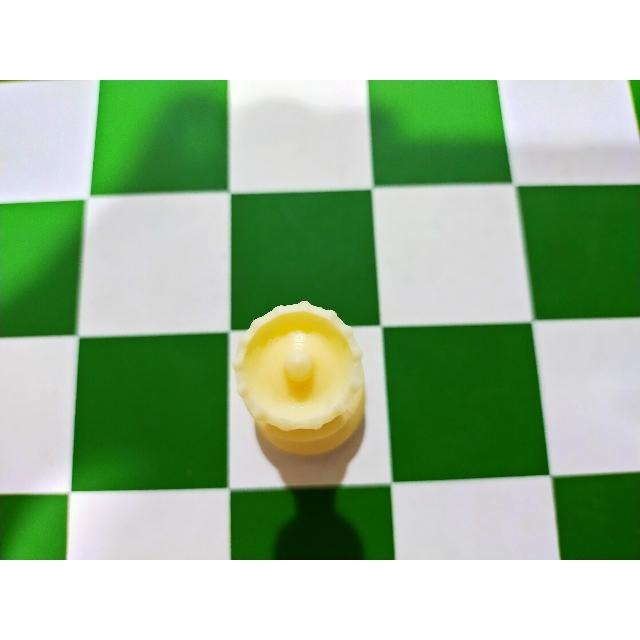white-queen: (223, 288, 371, 463)
